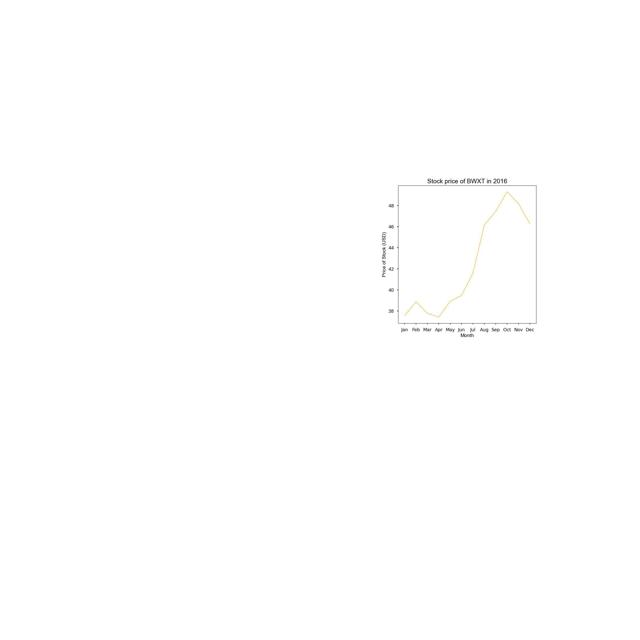Graph: (334, 164, 594, 343)
